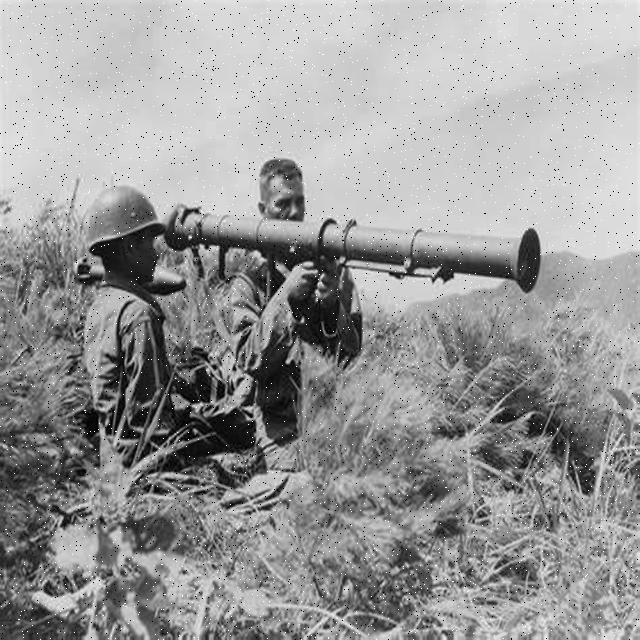bazooka: (163, 195, 552, 296)
